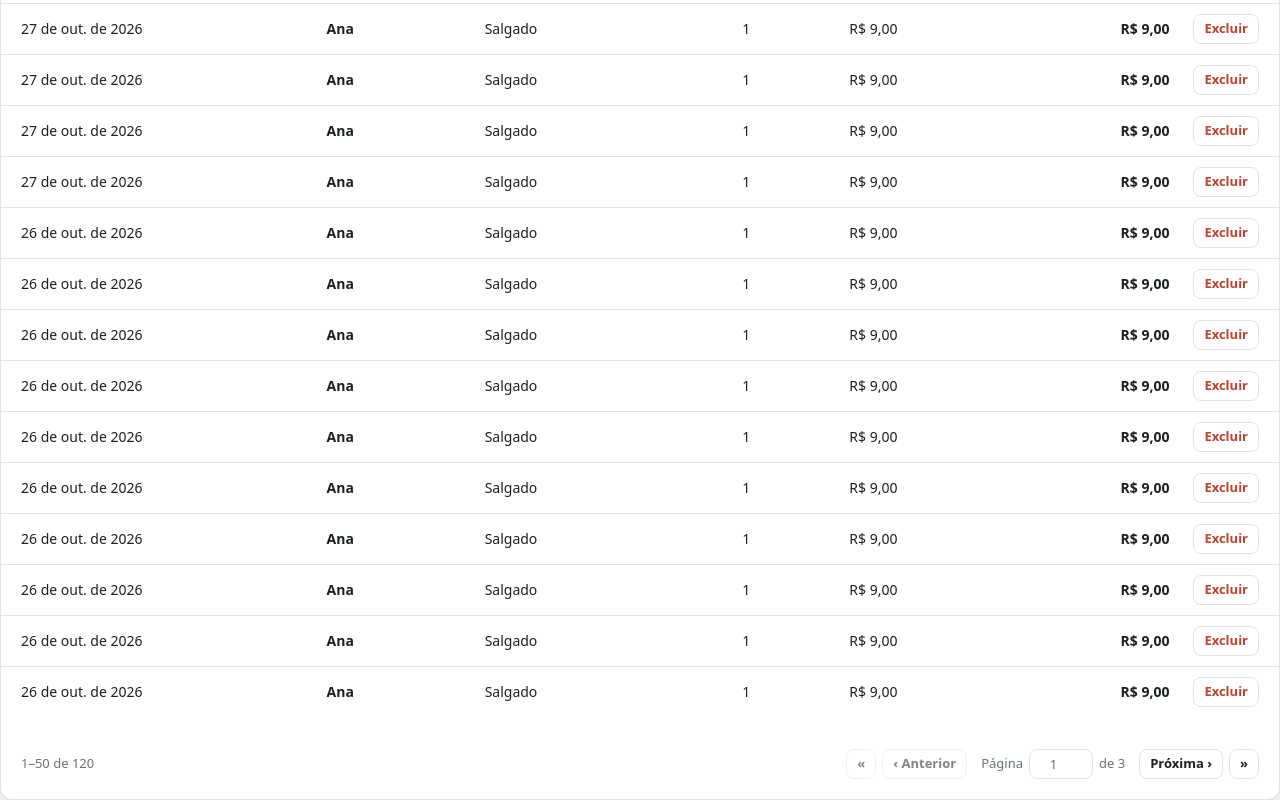
Test case: loads one page of 50 sales at a time from the API
(page scrolled)
Expected: the text "1–50 de 120" is shown, [21,754,94,774]
Expected: the number field named "ir para a página" holds "1", [1029,749,1093,779]
Click the button named "última página".
click(1244, 764)  # box [1229,749,1259,779]
(page scrolled)
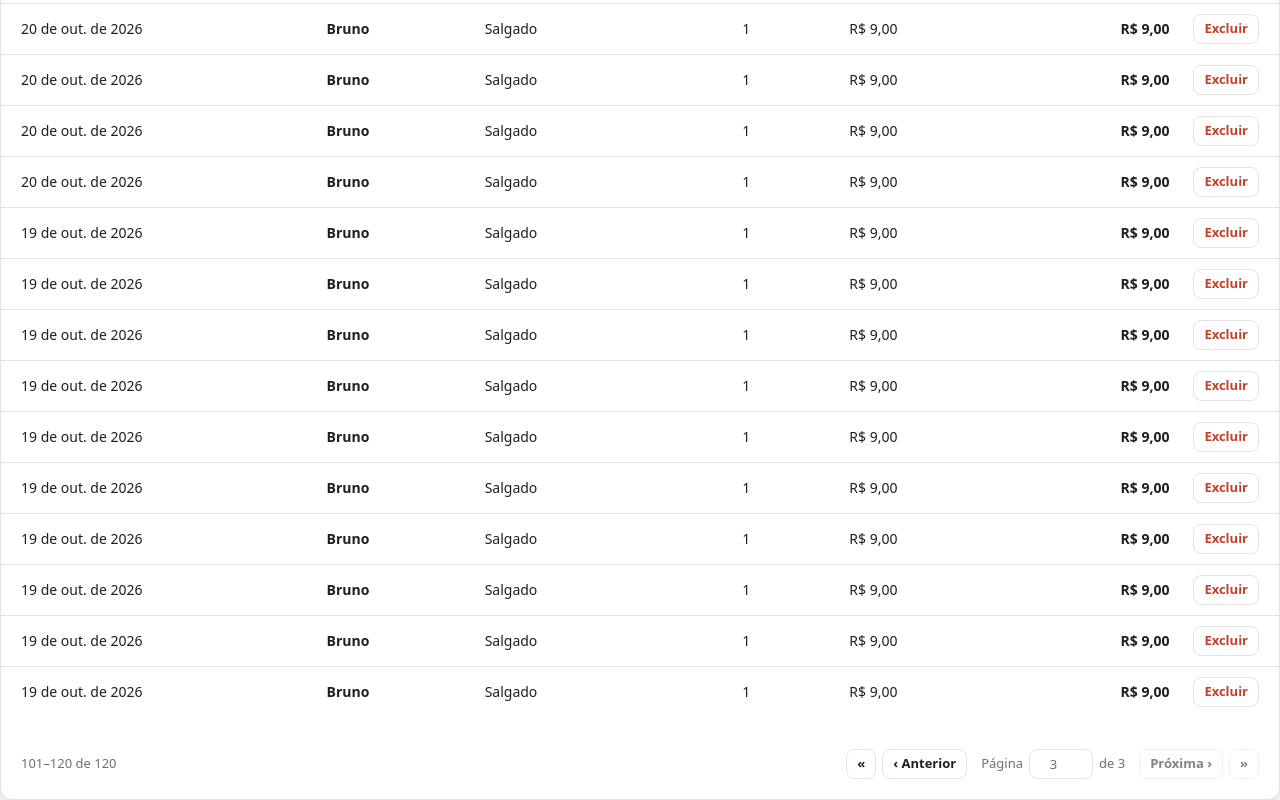
Result: the text "101–120 de 120" is shown at [21,754,116,774]
Result: the button "Próxima ›" is disabled at [1139,749,1223,779]
